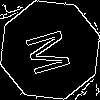M: (25, 25, 80, 78)
